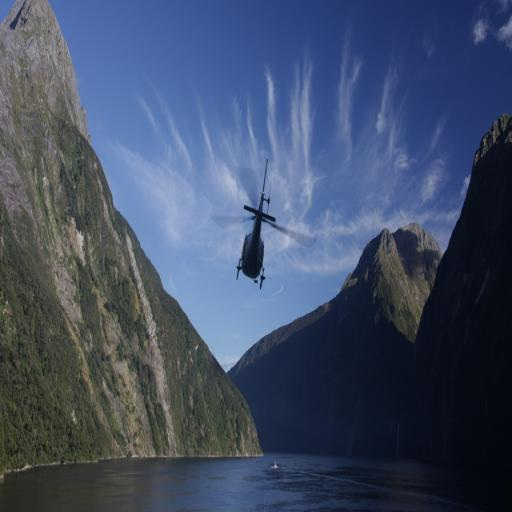helicopter: (216, 157, 311, 311)
